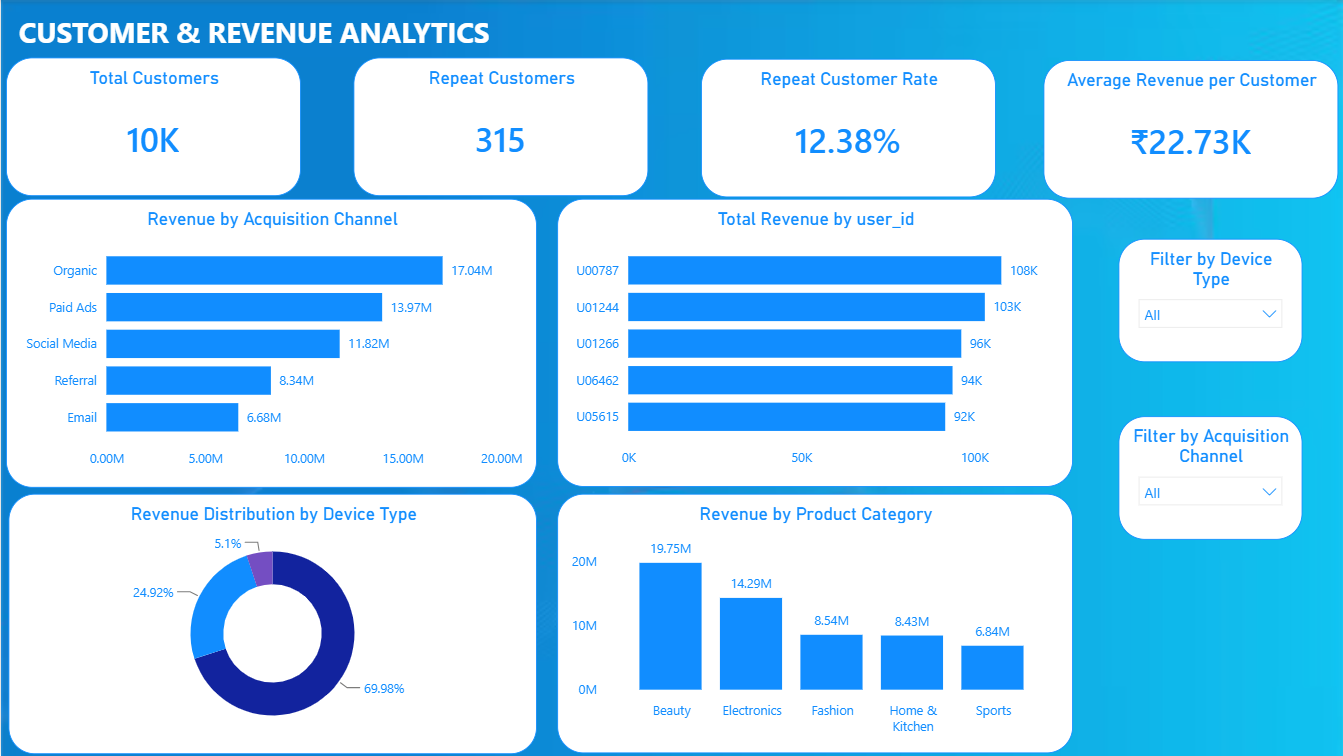

What the dashboard file says about the page in this screenshot:
{"tool":"powerbi","page":{"name":"Customer & Revenue Analytics","canvas":[1280,720],"ordinal":4},"visuals":[{"type":"textbox","box":[7.1,7.1,467.9,48.8],"z":0},{"type":"cardVisual","title":"Total Customers","fields":{"Data":["users_cleaned.Total Customers"]},"box":[4.8,54.8,281,132.1],"z":1000},{"type":"cardVisual","title":"Repeat Customers","fields":{"Data":["users_cleaned.Repeat Customers"]},"box":[335.7,54.8,281,132.1],"z":2000},{"type":"cardVisual","title":"Repeat Customer Rate","fields":{"Data":["users_cleaned.Repeat Customer Rate"]},"box":[666.7,56,281,132.1],"z":3000},{"type":"cardVisual","title":"Average Revenue per Customer","fields":{"Data":["users_cleaned.Average Revenue per Customer"]},"box":[992.9,57.1,281,132.1],"z":4000},{"type":"clusteredBarChart","title":"Revenue by Acquisition Channel","fields":{"Category":["users_cleaned.acquisition_channel"],"Y":["orders_cleaned.Total Revenue"]},"box":[4.8,189.3,506,275],"z":5000},{"type":"donutChart","title":"Revenue Distribution by Device Type","fields":{"Category":["users_cleaned.device_type"],"Y":["orders_cleaned.Total Revenue"]},"box":[7.1,470.2,503.6,247.6],"z":6000},{"type":"clusteredBarChart","fields":{"Category":["users_cleaned.user_id"],"Y":["orders_cleaned.Total Revenue"]},"box":[529.7,189.4,491.3,274.4],"z":7000},{"type":"clusteredColumnChart","title":"Revenue by Product Category","fields":{"Category":["products_cleaned.category"],"Y":["orders_cleaned.Total Revenue"]},"box":[529.7,470.7,491.3,247],"z":8000},{"type":"slicer","title":"Filter by Device Type","fields":{"Values":["users_cleaned.device_type"]},"box":[1064.3,227.4,175,117.9],"z":9000},{"type":"slicer","title":"Filter by Acquisition Channel","fields":{"Values":["users_cleaned.acquisition_channel"]},"box":[1064.3,396.4,175,117.9],"z":10000}]}

Visuals, with their boxes in screenshot pixels (x1, y1, x2, y2), scaled from the page's 1280x720 canvas onto the 1343x756 screenshot:
textbox: <region>7, 7, 498, 59</region>
"Total Customers" cardVisual: <region>5, 58, 300, 196</region>
"Repeat Customers" cardVisual: <region>352, 58, 647, 196</region>
"Repeat Customer Rate" cardVisual: <region>700, 59, 994, 198</region>
"Average Revenue per Customer" cardVisual: <region>1042, 60, 1337, 199</region>
"Revenue by Acquisition Channel" clusteredBarChart: <region>5, 199, 536, 488</region>
"Revenue Distribution by Device Type" donutChart: <region>7, 494, 536, 754</region>
clusteredBarChart - users_cleaned.user_id x orders_cleaned.Total Revenue: <region>556, 199, 1071, 487</region>
"Revenue by Product Category" clusteredColumnChart: <region>556, 494, 1071, 754</region>
"Filter by Device Type" slicer: <region>1117, 239, 1300, 363</region>
"Filter by Acquisition Channel" slicer: <region>1117, 416, 1300, 540</region>
